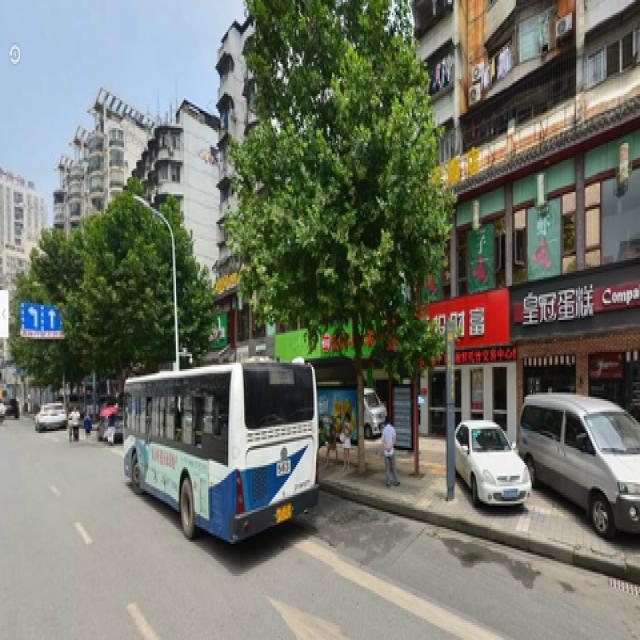meta: (253, 2, 427, 459)
